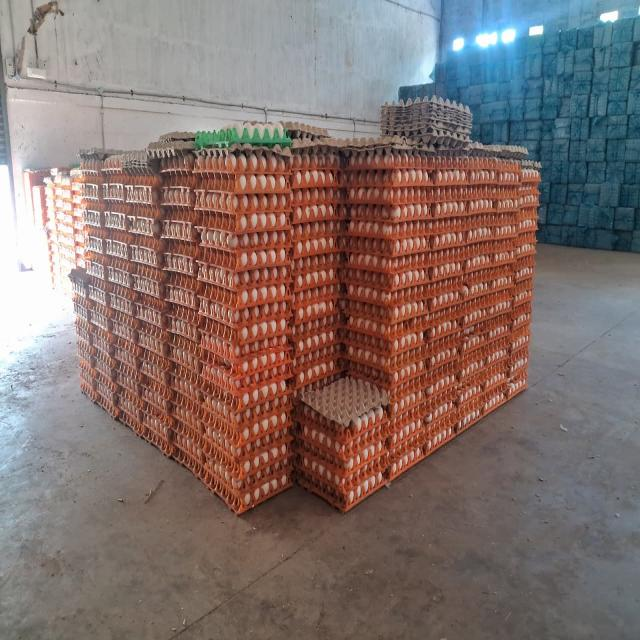egg_tray: (196, 150, 290, 512), (388, 159, 493, 477), (344, 151, 429, 392), (102, 159, 170, 454), (456, 163, 518, 432), (388, 251, 461, 477), (196, 151, 290, 325), (200, 335, 290, 510), (386, 331, 491, 479), (343, 151, 429, 305), (291, 146, 344, 389), (386, 307, 459, 479), (344, 314, 428, 461), (160, 153, 202, 435), (386, 318, 459, 479), (194, 149, 290, 271), (114, 222, 170, 424), (202, 385, 291, 512), (163, 225, 205, 479), (200, 325, 290, 439), (294, 402, 387, 511), (200, 302, 290, 409), (198, 259, 290, 361), (344, 279, 428, 387), (343, 203, 430, 307), (296, 413, 386, 511), (458, 180, 517, 325), (430, 159, 500, 281), (201, 385, 291, 479), (344, 207, 430, 304), (292, 219, 341, 388), (198, 229, 290, 319), (344, 301, 425, 397), (161, 156, 202, 340), (198, 227, 290, 309), (508, 167, 540, 397), (344, 309, 425, 398), (344, 301, 424, 390), (290, 253, 341, 389), (198, 194, 290, 269), (291, 254, 341, 388), (456, 313, 511, 432), (160, 164, 202, 305), (292, 221, 340, 339), (346, 190, 432, 255), (291, 149, 343, 256), (198, 211, 290, 271), (345, 287, 427, 354), (202, 452, 292, 513), (168, 334, 206, 478), (108, 283, 144, 434), (203, 452, 292, 513), (344, 325, 426, 391), (343, 303, 425, 367), (340, 147, 433, 203), (138, 301, 172, 454), (341, 148, 432, 205), (199, 305, 288, 363), (101, 156, 136, 303), (194, 146, 290, 199), (128, 203, 168, 329), (423, 307, 462, 435), (385, 376, 432, 479), (201, 349, 290, 403), (137, 322, 172, 455), (464, 184, 516, 273), (430, 157, 498, 223), (347, 203, 430, 257), (167, 358, 204, 479), (300, 377, 388, 427), (460, 247, 514, 328), (460, 271, 512, 355), (160, 168, 201, 274), (430, 157, 498, 217), (291, 312, 343, 389), (346, 289, 426, 339), (104, 202, 138, 315), (386, 389, 429, 478), (110, 260, 166, 327), (128, 202, 165, 299), (380, 96, 472, 135), (292, 248, 341, 321), (165, 272, 200, 373), (460, 262, 514, 327), (160, 154, 200, 241), (167, 305, 202, 404), (166, 273, 200, 374), (81, 159, 108, 285), (462, 213, 516, 275), (429, 215, 478, 283), (70, 271, 96, 399), (514, 172, 539, 305), (107, 285, 138, 392), (461, 263, 514, 325), (168, 335, 201, 432), (50, 173, 76, 293), (386, 363, 426, 439), (138, 324, 172, 413), (290, 145, 340, 205), (162, 237, 200, 315), (384, 419, 428, 481), (292, 243, 341, 298), (158, 152, 198, 219), (290, 137, 340, 187), (112, 312, 142, 395), (196, 121, 290, 147), (170, 365, 204, 435), (409, 95, 472, 131), (424, 307, 461, 368), (130, 261, 165, 323), (171, 417, 206, 479), (514, 208, 536, 306), (116, 359, 144, 435), (507, 305, 530, 397), (102, 167, 131, 239), (84, 209, 110, 288), (146, 131, 196, 172), (163, 235, 200, 290), (123, 149, 160, 203), (481, 344, 508, 415), (434, 157, 500, 186), (93, 340, 118, 416), (74, 282, 96, 368), (103, 150, 156, 185), (76, 203, 104, 268), (72, 282, 95, 361), (406, 114, 471, 141), (110, 310, 139, 370), (416, 420, 458, 461), (506, 325, 530, 396), (411, 123, 470, 151), (104, 271, 139, 317), (494, 161, 520, 221), (454, 383, 484, 434), (141, 409, 174, 455), (381, 99, 422, 135), (512, 253, 534, 318), (72, 168, 86, 268), (280, 121, 329, 149), (118, 386, 146, 435), (85, 225, 110, 279), (518, 168, 539, 232), (78, 151, 104, 202), (88, 283, 115, 332), (515, 207, 537, 266), (158, 149, 194, 185), (128, 200, 162, 237), (124, 173, 162, 206), (130, 234, 164, 269), (516, 205, 537, 259), (95, 369, 119, 416), (100, 163, 128, 203), (513, 254, 534, 307), (78, 359, 102, 405), (52, 245, 75, 293), (105, 254, 134, 290), (46, 207, 59, 285), (514, 236, 534, 286), (515, 212, 536, 259), (119, 149, 156, 175), (46, 169, 70, 209), (58, 239, 76, 292), (102, 200, 130, 234), (89, 301, 116, 336), (120, 149, 156, 175), (56, 183, 72, 241), (105, 229, 132, 263), (496, 160, 522, 195), (80, 161, 102, 202), (380, 100, 406, 134), (46, 175, 64, 223), (78, 360, 98, 402), (85, 251, 109, 285), (58, 251, 76, 294), (54, 173, 72, 211), (348, 361, 378, 383), (44, 178, 54, 243), (164, 205, 198, 224), (48, 231, 59, 287), (521, 161, 540, 192), (256, 443, 288, 461), (48, 235, 59, 287), (101, 151, 124, 175), (506, 373, 528, 398), (75, 215, 85, 267), (258, 444, 288, 457), (466, 270, 486, 289), (45, 177, 54, 217), (203, 329, 214, 360), (434, 236, 460, 248), (132, 237, 160, 248), (398, 453, 412, 474), (170, 337, 186, 355), (294, 349, 305, 372), (110, 285, 128, 299), (144, 185, 160, 200), (174, 370, 184, 394), (271, 194, 286, 208), (463, 289, 484, 299), (204, 215, 224, 225), (168, 295, 188, 305), (145, 185, 158, 199), (432, 298, 447, 310), (488, 372, 504, 383), (316, 338, 332, 349), (142, 297, 156, 309), (388, 402, 402, 413), (272, 450, 288, 459), (275, 194, 286, 207), (368, 261, 388, 268), (409, 203, 426, 211), (162, 157, 174, 167), (476, 187, 487, 197), (299, 375, 311, 384), (373, 407, 382, 419), (161, 158, 172, 167), (108, 231, 124, 237), (137, 211, 150, 218), (131, 176, 149, 181), (119, 205, 128, 214), (500, 279, 510, 287), (360, 415, 368, 424), (304, 239, 315, 245), (434, 225, 443, 232), (126, 234, 130, 249), (98, 242, 103, 253), (128, 192, 134, 201), (126, 184, 136, 189), (453, 226, 463, 231), (388, 465, 392, 477), (315, 238, 324, 243), (132, 176, 146, 179), (246, 296, 252, 303), (347, 310, 353, 317), (134, 373, 139, 381), (348, 227, 356, 232), (128, 184, 136, 189), (225, 360, 229, 370), (212, 344, 220, 349), (188, 393, 194, 399), (208, 219, 217, 223), (454, 229, 458, 238), (298, 315, 304, 321), (425, 98, 429, 107), (218, 359, 224, 365), (303, 349, 309, 355), (403, 292, 410, 297), (120, 255, 128, 259), (493, 172, 496, 182), (142, 240, 152, 243), (122, 309, 128, 314), (334, 223, 340, 228), (325, 309, 331, 314), (151, 248, 156, 254), (442, 222, 446, 229), (523, 169, 530, 173), (310, 225, 314, 232), (152, 187, 157, 192), (415, 392, 420, 397), (454, 267, 459, 272), (138, 196, 146, 199), (486, 361, 492, 365), (66, 174, 70, 180), (398, 307, 405, 310), (400, 463, 404, 468), (474, 206, 478, 211), (463, 227, 468, 231), (134, 427, 140, 430), (272, 213, 278, 216), (119, 341, 122, 347), (128, 268, 132, 272), (127, 349, 131, 353), (163, 447, 166, 452), (450, 227, 455, 230), (305, 229, 310, 232), (130, 388, 134, 391), (164, 163, 167, 167), (484, 353, 488, 356), (523, 241, 529, 243), (514, 325, 518, 328), (532, 245, 534, 251), (218, 214, 222, 217), (461, 201, 464, 205), (258, 289, 260, 295), (163, 195, 165, 201), (317, 229, 321, 232), (56, 184, 58, 190), (421, 320, 424, 324), (312, 374, 316, 377), (504, 220, 508, 223), (478, 411, 480, 416), (461, 373, 463, 378), (410, 397, 412, 402), (142, 251, 147, 253), (263, 423, 266, 426), (140, 176, 148, 177), (192, 227, 194, 231), (205, 250, 206, 258), (468, 206, 470, 210), (254, 299, 258, 301), (294, 225, 296, 229), (372, 327, 376, 329), (298, 225, 302, 227), (510, 228, 512, 232), (449, 218, 456, 219), (243, 218, 246, 220), (481, 402, 483, 405), (131, 393, 134, 395), (130, 176, 136, 177), (497, 308, 500, 310), (408, 100, 410, 103), (536, 195, 538, 198), (294, 225, 296, 228), (298, 235, 300, 238), (510, 250, 512, 253), (184, 358, 189, 359), (128, 362, 133, 363), (191, 359, 192, 363), (391, 258, 393, 260), (154, 196, 156, 198), (120, 411, 122, 413), (484, 214, 486, 216), (260, 300, 264, 301), (278, 425, 280, 427), (338, 289, 339, 293), (212, 206, 214, 208), (400, 431, 404, 432), (144, 255, 146, 257), (271, 389, 274, 390), (81, 376, 82, 379), (117, 240, 119, 241), (320, 205, 322, 206), (220, 212, 222, 213), (257, 173, 258, 175), (273, 195, 274, 197), (182, 165, 184, 166), (194, 215, 195, 217), (283, 249, 285, 250), (530, 196, 532, 197), (155, 197, 156, 199), (235, 335, 236, 337), (326, 229, 328, 230), (255, 336, 257, 337), (136, 323, 136, 325), (477, 207, 477, 210), (472, 201, 472, 202), (481, 407, 481, 407), (161, 170, 161, 172), (190, 440, 190, 442), (503, 374, 503, 379), (187, 387, 187, 389), (179, 176, 179, 177), (517, 302, 517, 303), (336, 383, 338, 383), (114, 157, 116, 157), (414, 462, 414, 463), (285, 223, 285, 223), (459, 260, 459, 261), (407, 113, 407, 115), (414, 323, 414, 323), (241, 301, 241, 301), (468, 240, 468, 241), (534, 229, 534, 229), (406, 106, 406, 108), (236, 209, 237, 209), (536, 187, 536, 190), (396, 443, 399, 443), (130, 383, 130, 383), (436, 98, 436, 99), (337, 225, 337, 225), (401, 341, 401, 343), (272, 389, 272, 390), (372, 203, 373, 203), (111, 157, 112, 157), (139, 253, 139, 254), (536, 187, 536, 188)
